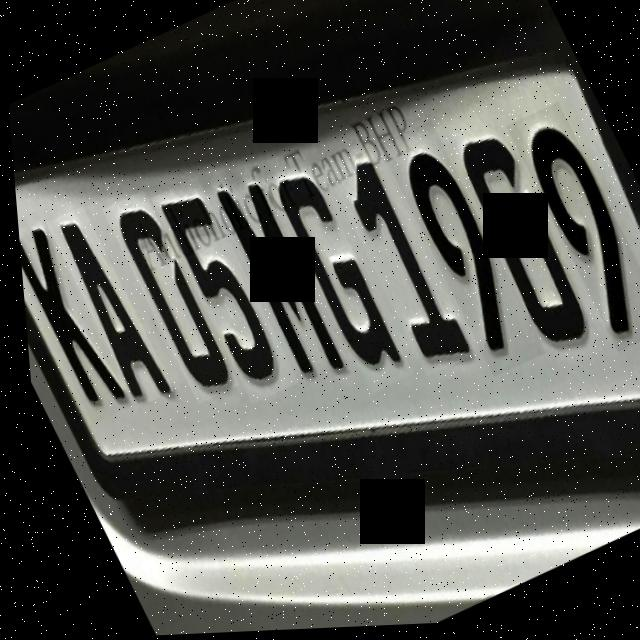0: (438, 113, 600, 367), (97, 188, 234, 408)
1: (316, 137, 473, 384)
5: (145, 175, 293, 408)
9: (374, 121, 540, 384), (502, 103, 640, 360)
A: (41, 203, 169, 411)
G: (262, 160, 408, 399)
K: (13, 207, 127, 425)
M: (201, 156, 350, 394)
